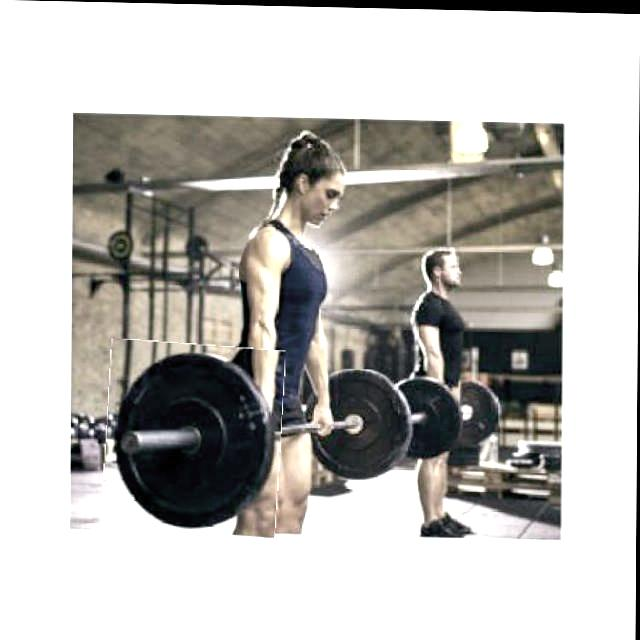barbell: (106, 340, 285, 535)
